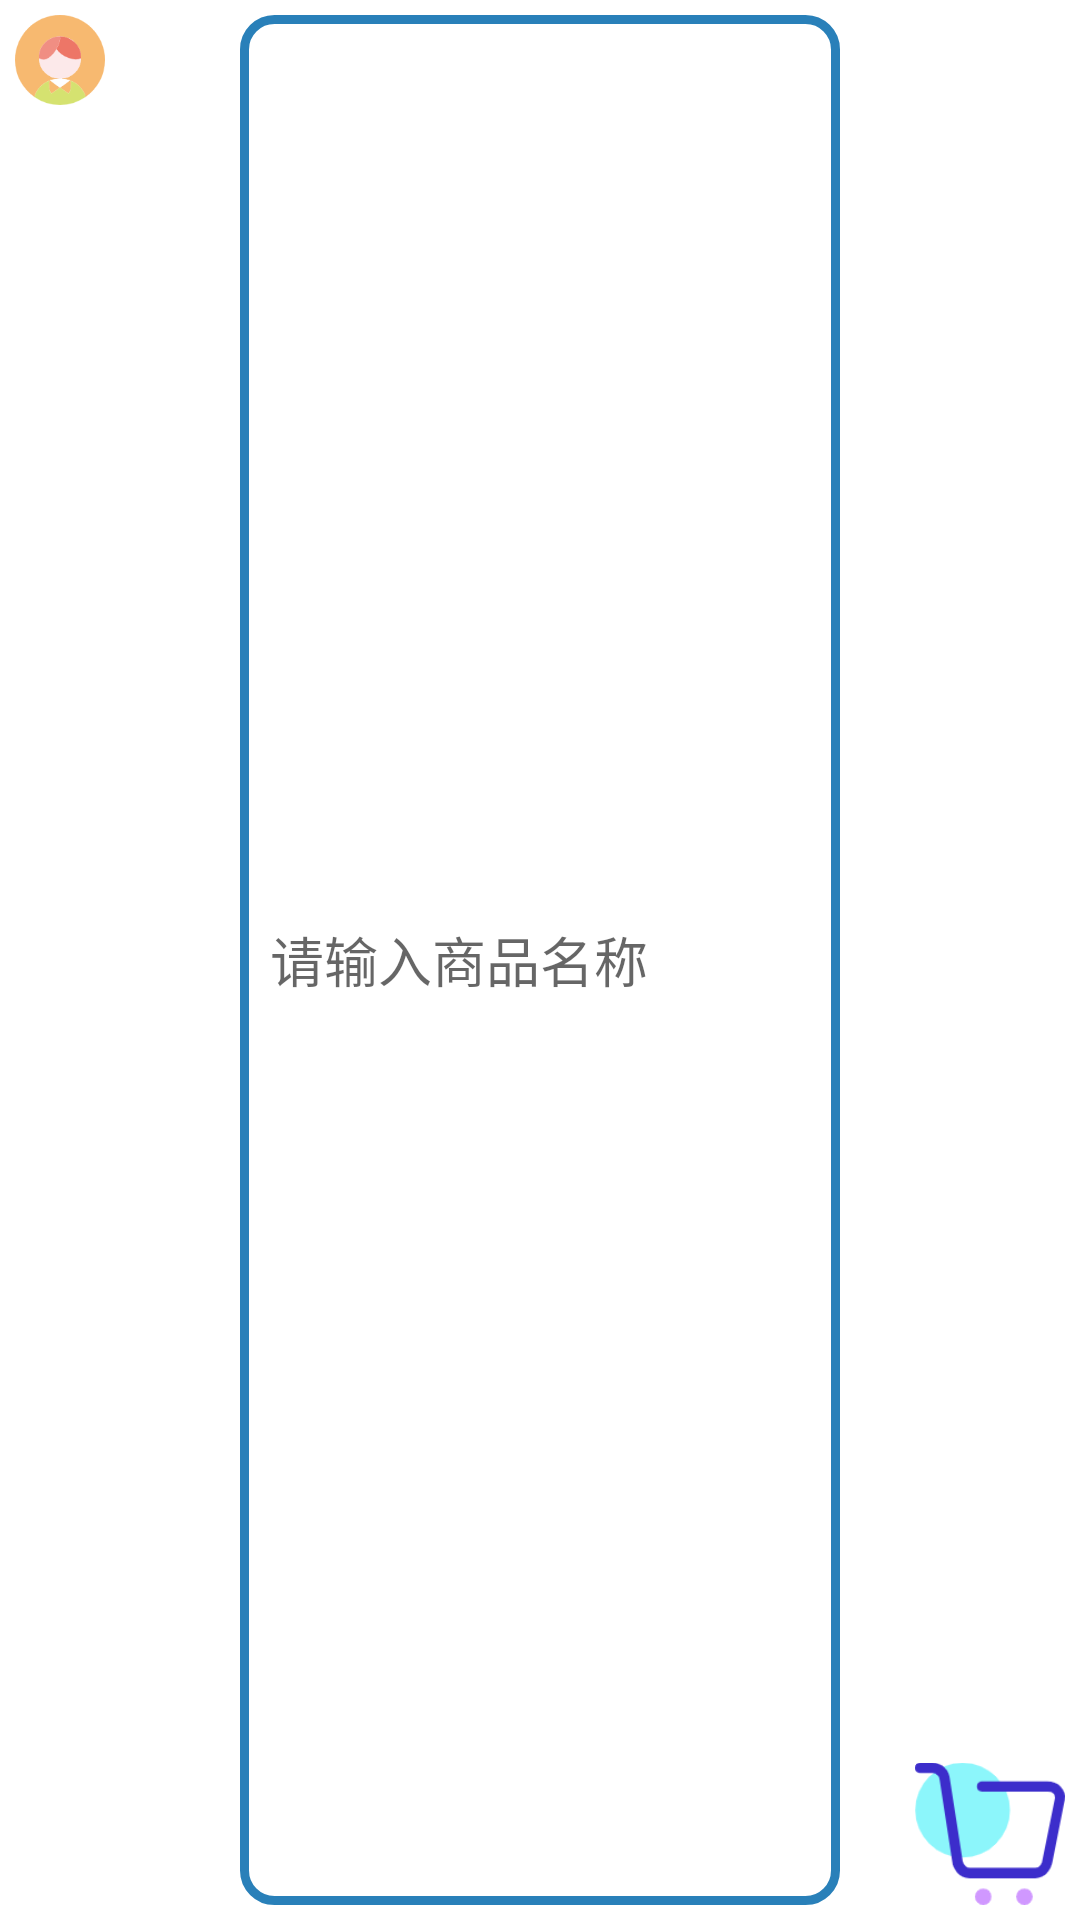

Point at icon controls on the screen. Image size 1080px x 1920px, points as point (x, y).
photo: point (60, 60)
shopping: point (990, 1834)
